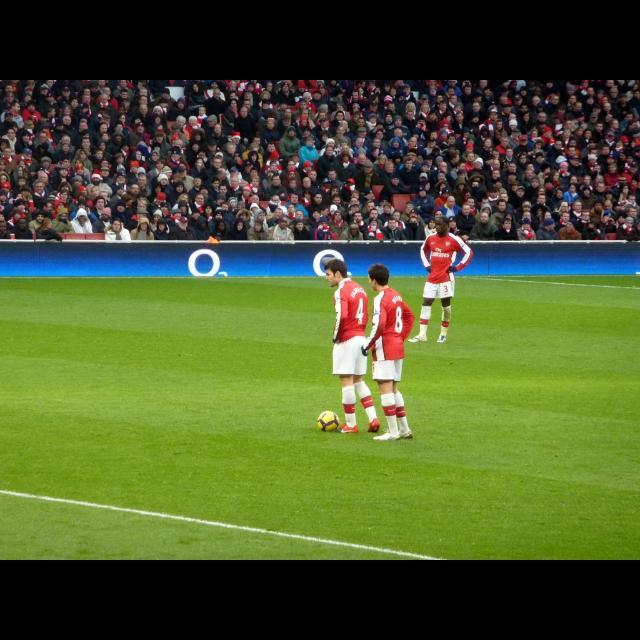football-players: (318, 258, 384, 434), (412, 216, 475, 344), (366, 265, 406, 440)
